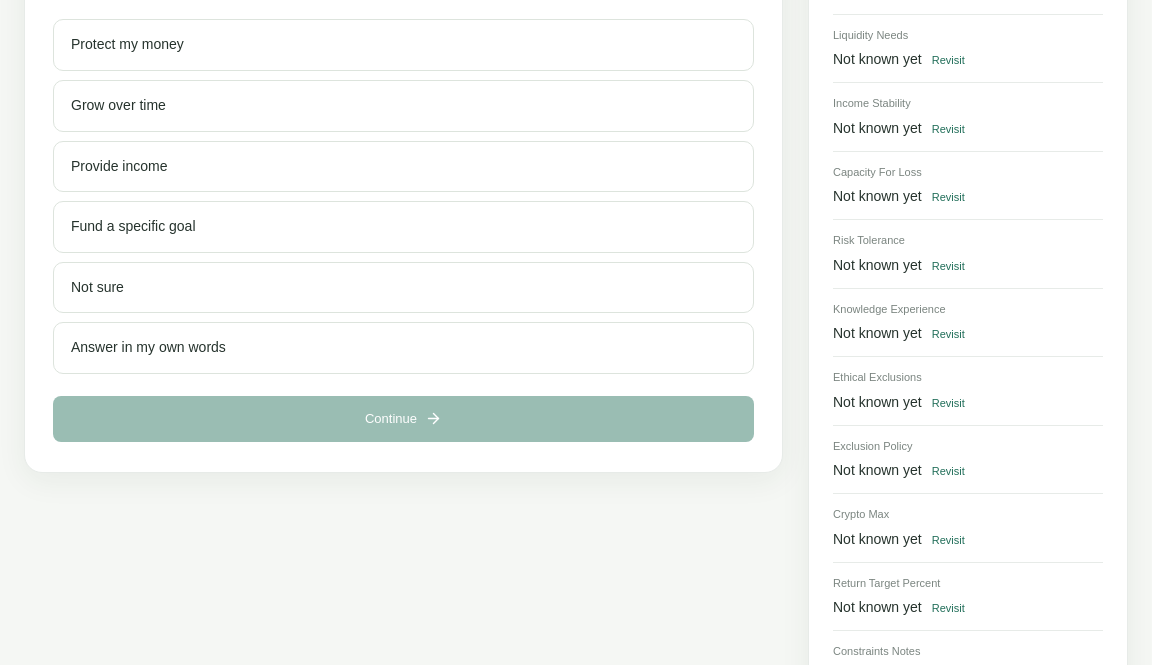
submits prose with Enter and shows the saved answer and extracted profile
The width and height of the screenshot is (1152, 665).
(page scrolled)
Step 1. Click the button "Answer in my own words" → (148, 347), box [53,322,754,374]
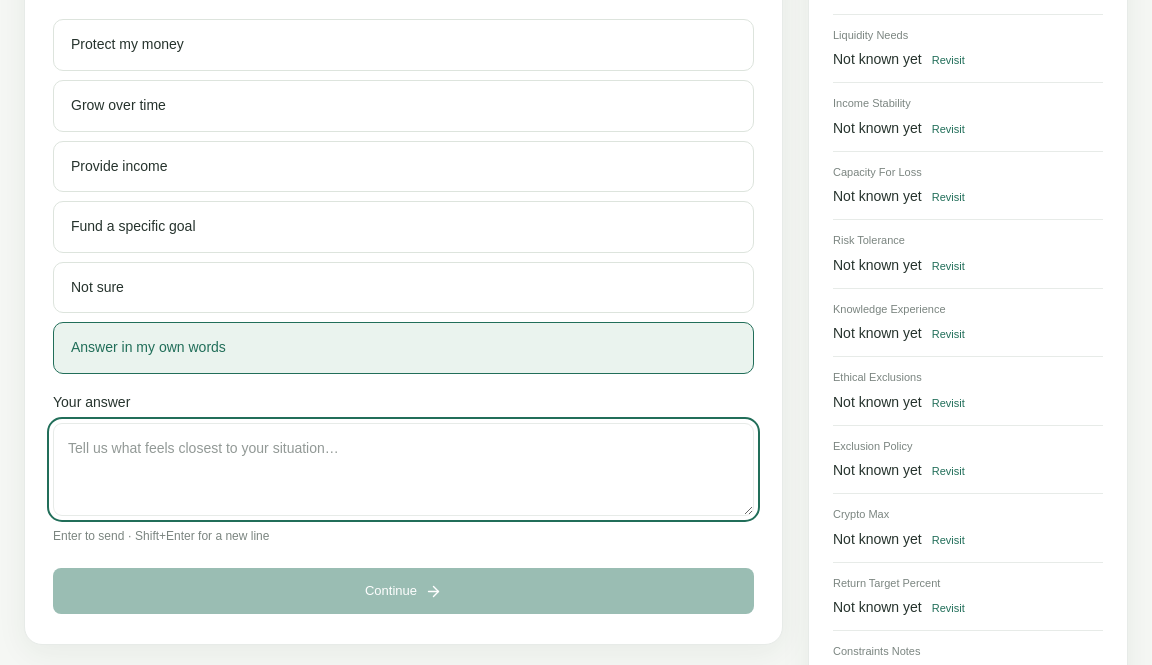
Step 2. Type "I want to grow my savings" into the text box labelled "Your answer Enter to send · Shift+Enter for a new line" → (404, 470), box [53,423,754,516]
Then press Enter
(page scrolled)
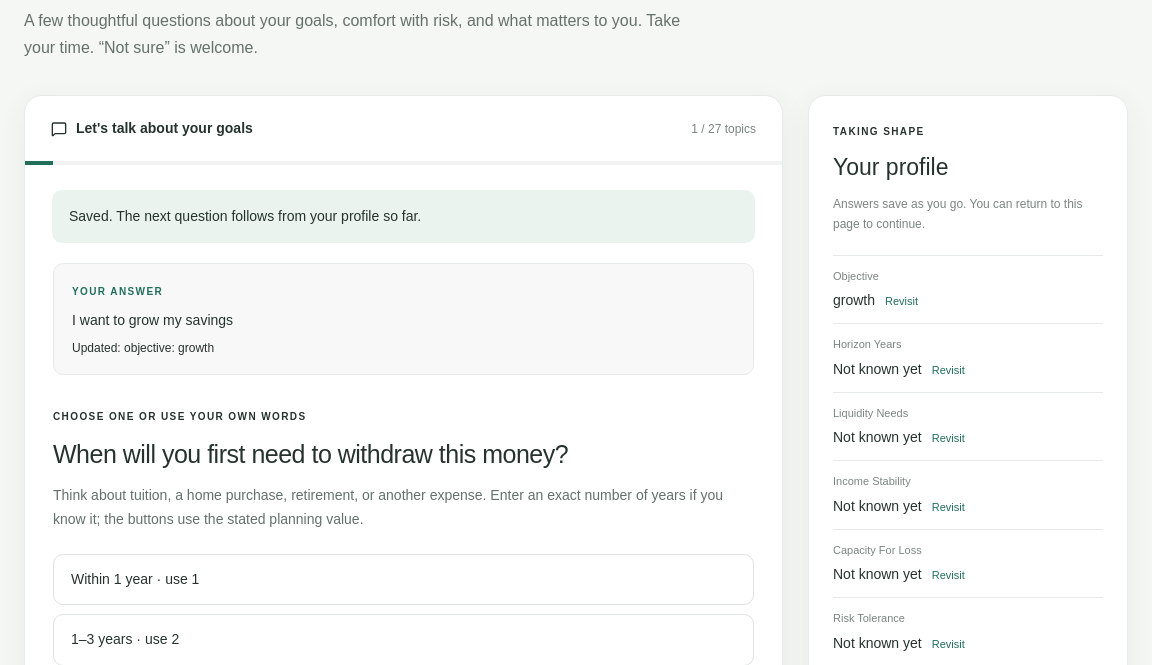
Now the heading "When will you first need to withdraw this money?" is shown, box [53,440,568,468]
Now the text "I want to grow my savings" is shown, box [72,312,233,328]
Now the text "Updated: objective: growth" is shown, box [72,341,214,355]
